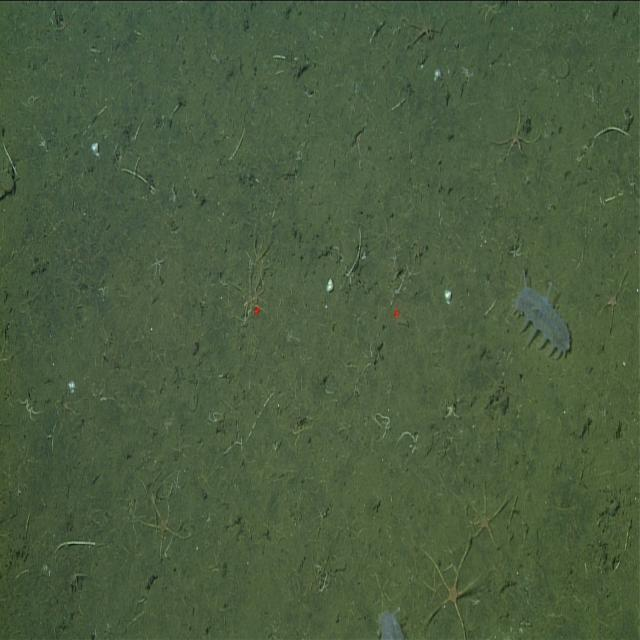Brittle Star: (415, 533, 488, 640), (134, 482, 194, 564), (464, 479, 512, 548), (491, 105, 541, 168), (593, 263, 634, 338), (232, 264, 270, 327), (442, 396, 462, 424)
